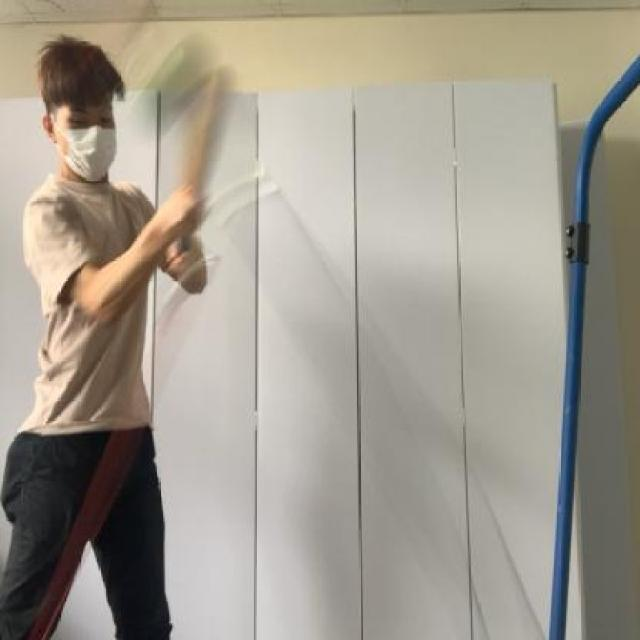baseball: (132, 29, 220, 143)
